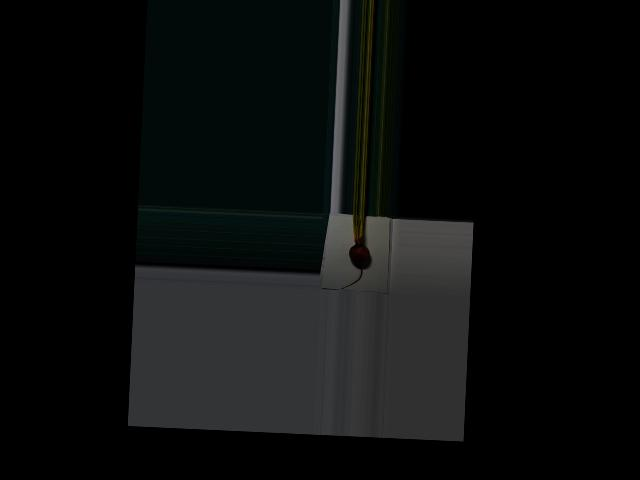beet: (341, 214, 371, 290)
